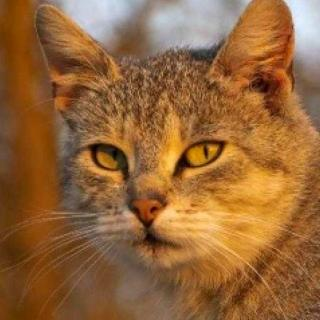cat: (30, 0, 285, 278)
nose: (127, 174, 172, 234)
